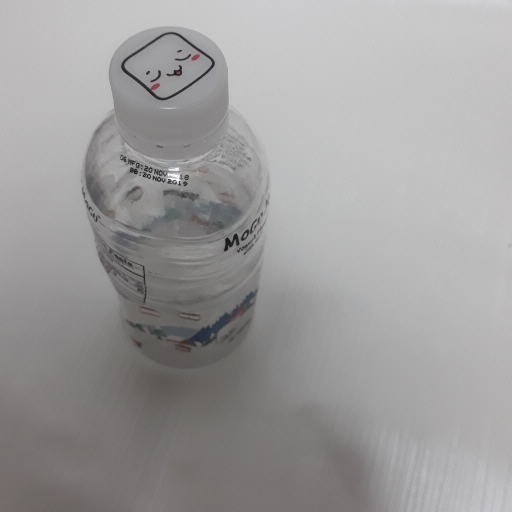Plastic_0: (77, 21, 275, 372)
